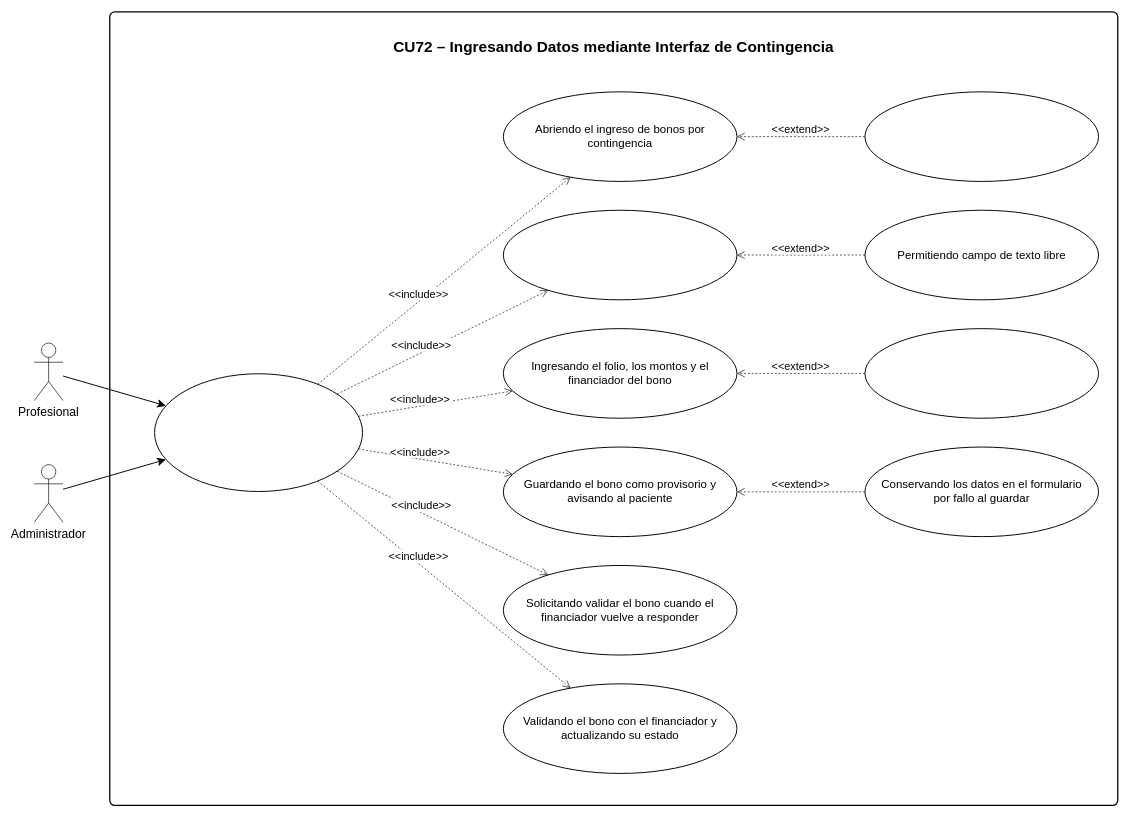
This 1130x817 diagram has some shape labels left out. The shapes that lost their labels are listed below. From the top down, each one's centre as x and y in pixels, then its label:
point 981,136: Ocultando el formulario con el financiador operativo
point 620,254: Mostrando el estado del financiador, las citas sin bono y el formulario
point 981,373: Bloqueando el registro por datos incompletos o folio ya registrado
point 258,432: Ingresando Datos mediante Interfaz de Contingencia
